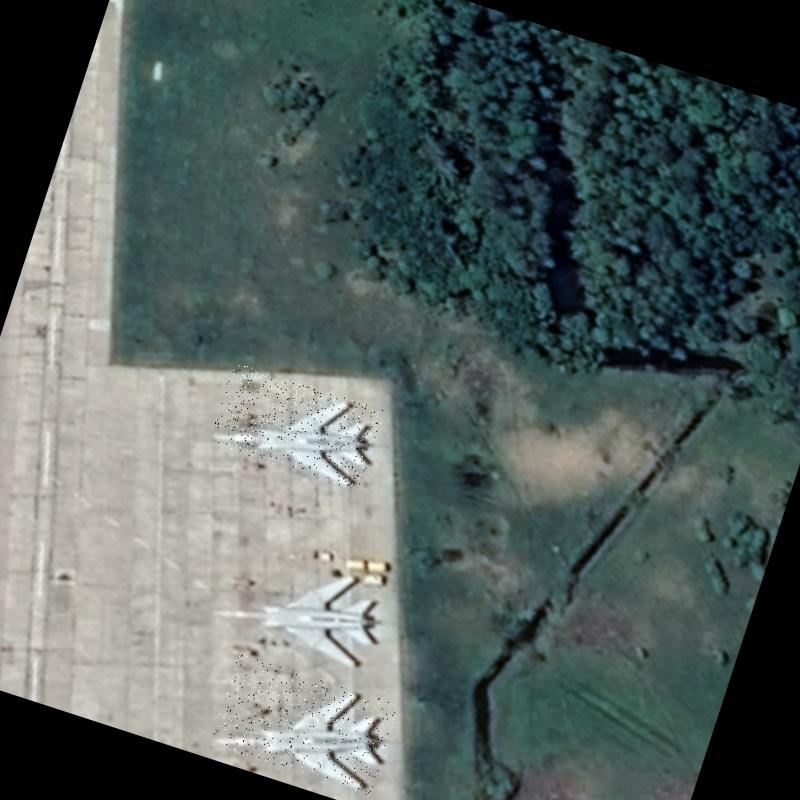A12: (209, 652, 400, 796), (207, 536, 394, 673), (208, 362, 384, 492)
